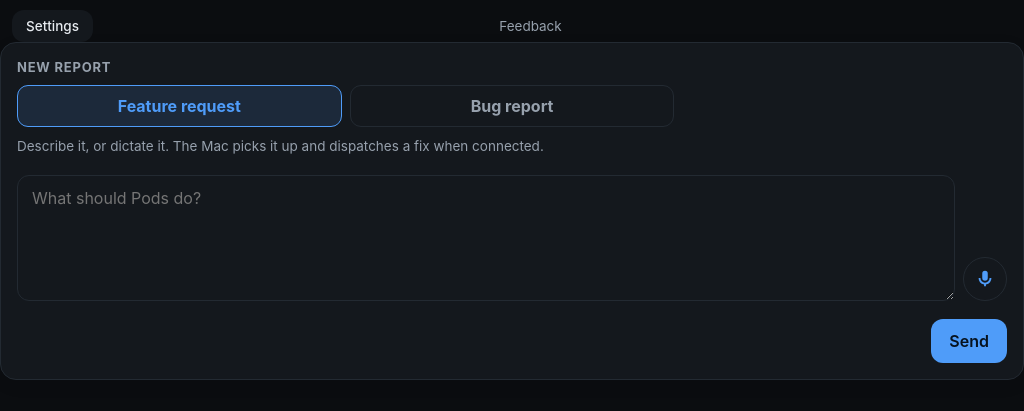
Test: shows the recording clock and can cancel without saving
Click the button named "Dictate a report" at (985, 279), box [963,257,1007,301]
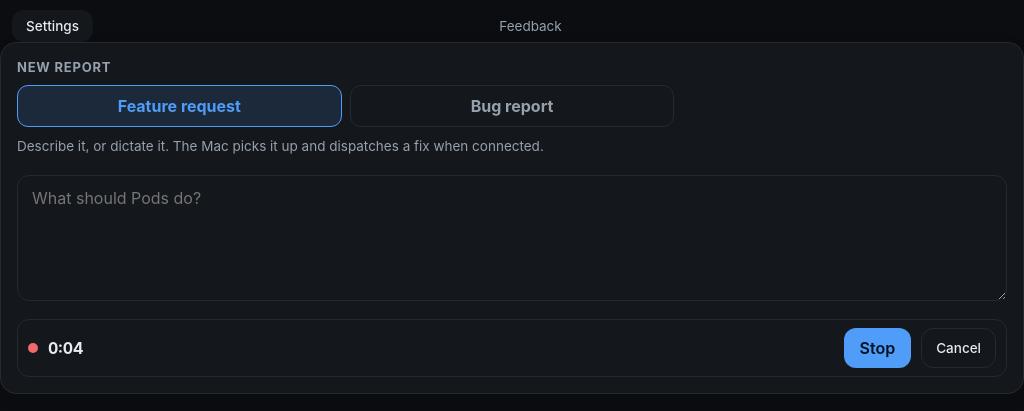
Expected: the element named "Recording 0:04" is shown, [17,319,1007,377]
Expected: the button "Send" is gone
Click the button "Cancel" at (959, 348), box [921,328,996,368]
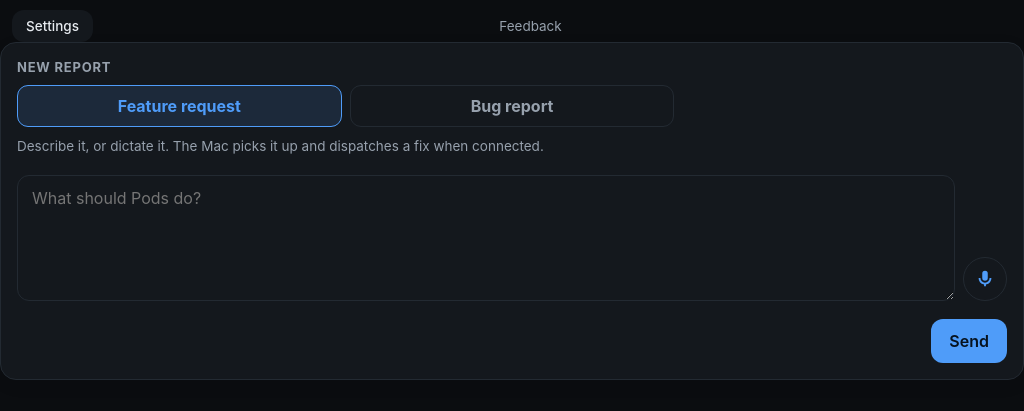
Expected: the button named "Dictate a report" is shown, [963,257,1007,301]
